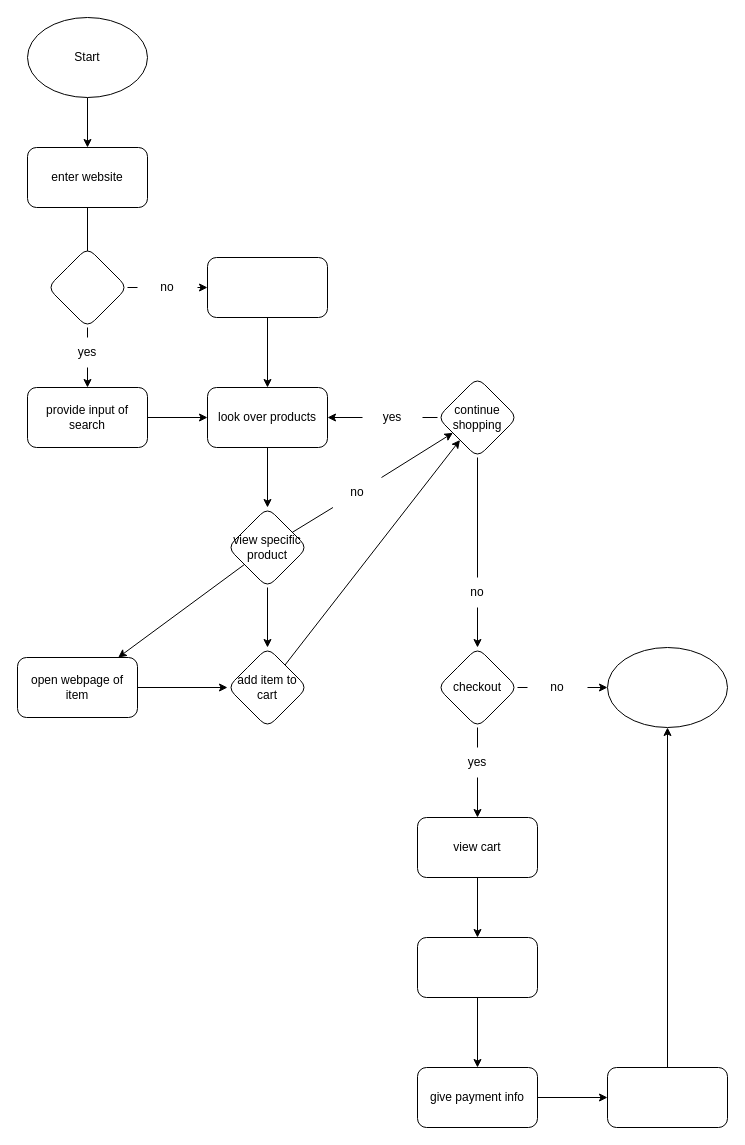
Image size: 745x1145. Some labels were removed from this diagram. The centre of each missing label's shape, as x and y in pixels:
"explore products" goes at (267,287).
"leave website" goes at (667,687).
"oder confirm" goes at (667,1097).
"search for product" goes at (87,287).
"view payment" goes at (477,967).
